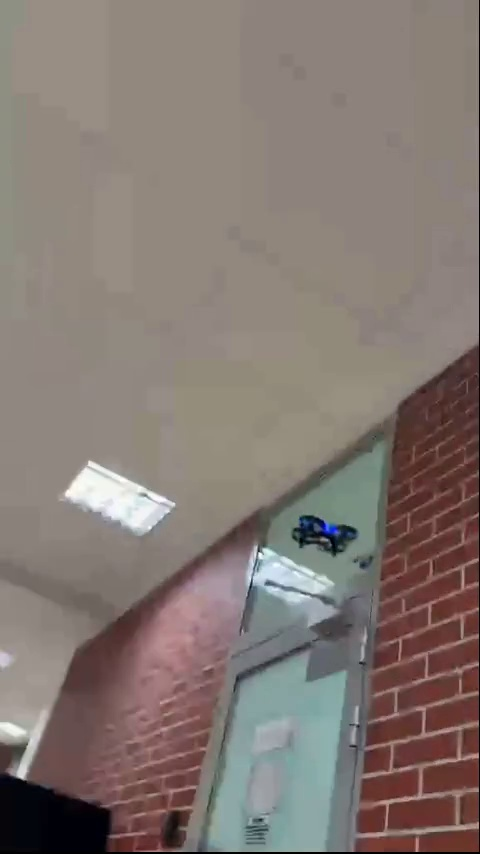drone: (289, 512, 354, 559)
